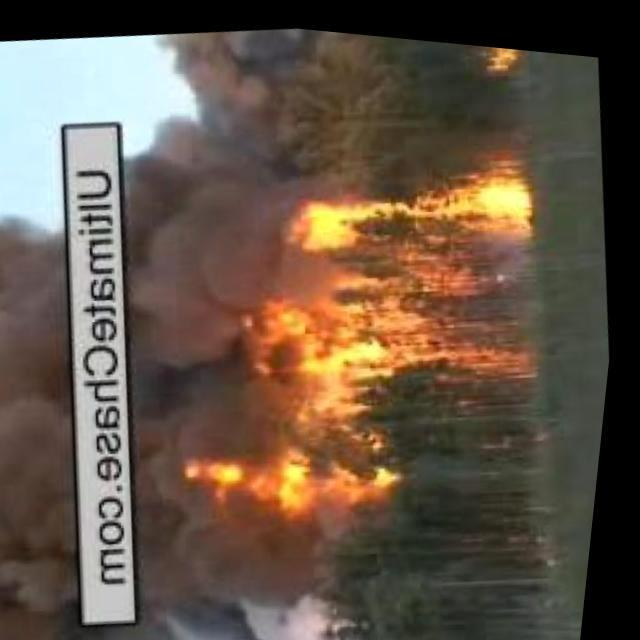fire: (242, 135, 550, 409), (175, 414, 412, 546), (480, 37, 528, 87)
